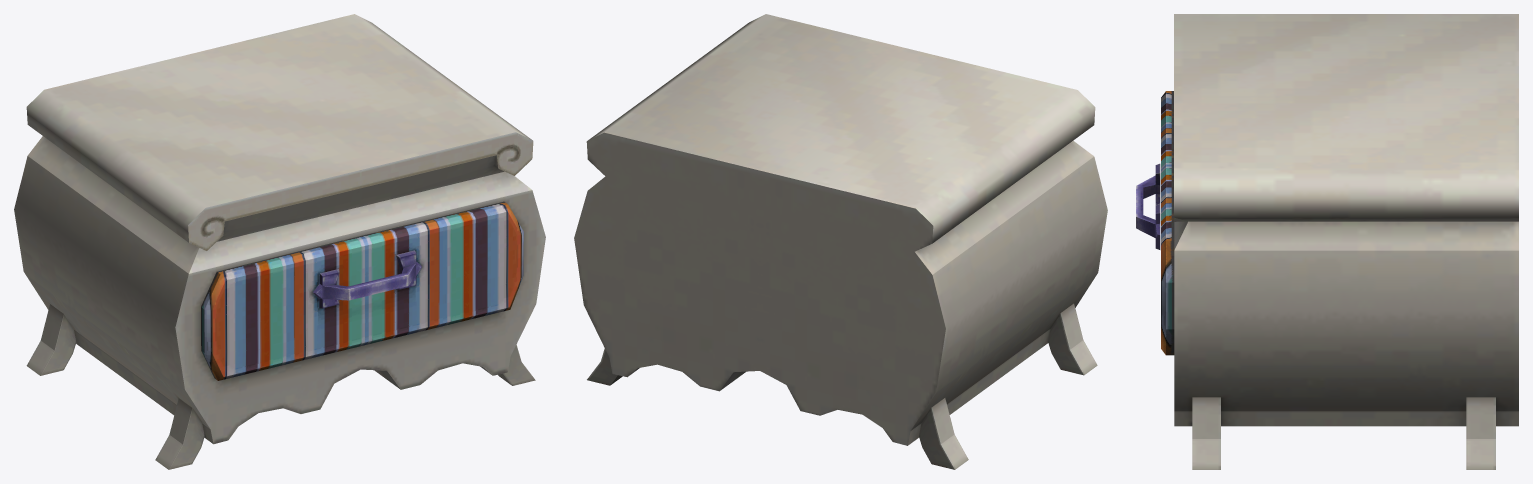
File: furni_0200608_03.FBX
3 views of the same model, side by side, from view 1: azimuth 30°, elevation 25°; view 2: azimuth 150°, elevation 25°; view 3: azimuth 270°, elevation 25° (orthographic). The views are drawn at different scales.
Parts seen in each view (by area): view 1: furni_0200608_03; view 2: furni_0200608_03; view 3: furni_0200608_03.
Boxes of the visible parts, left/top/right/bottom form: furni_0200608_03: left=14, top=14, right=545, bottom=469; furni_0200608_03: left=574, top=14, right=1107, bottom=469; furni_0200608_03: left=1136, top=14, right=1518, bottom=469.
Size of the model in its own units: 74.18 by 50 by 62.13.
1 material, 1 textured.
